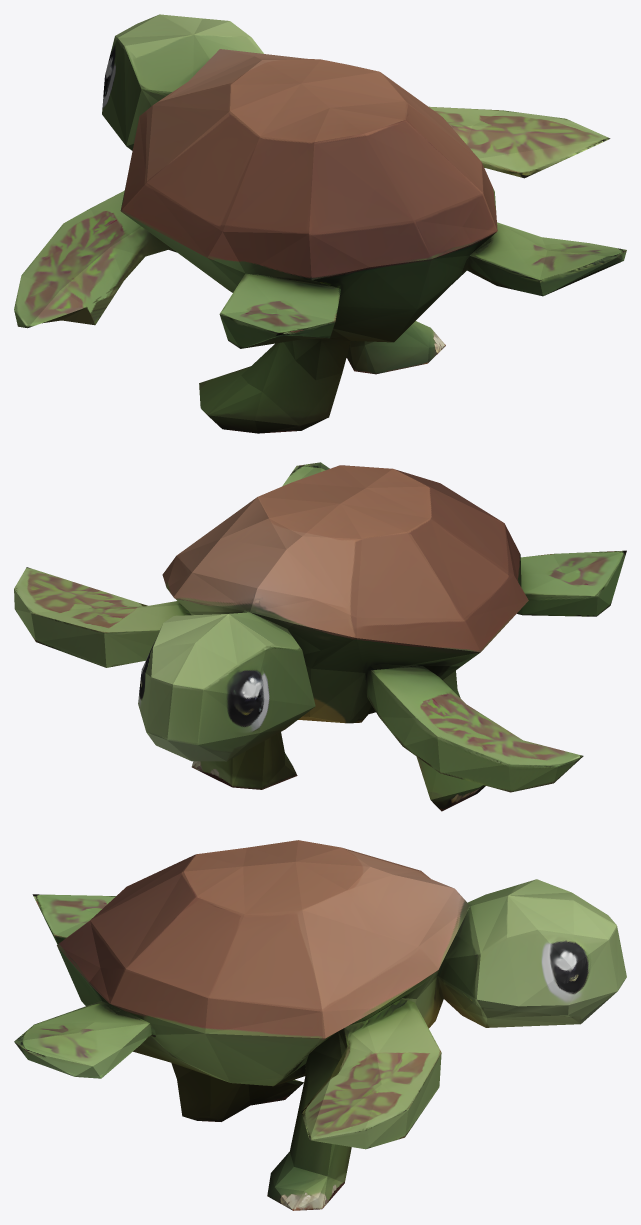
3 views of the same model, one above another, from view 1: azimuth 30°, elevation 25°; view 2: azimuth 150°, elevation 25°; view 3: azimuth 270°, elevation 25° (orthographic). The views are drawn at different scales.
Parts seen in each view (by area): view 1: Figure; view 2: Figure; view 3: Figure.
Boxes of the visible parts, bbox=[...] form: Figure: bbox=[14, 14, 626, 433]; Figure: bbox=[14, 462, 626, 811]; Figure: bbox=[14, 840, 626, 1210].
Size of the model in its own units: 0.5465 by 0.2689 by 0.5255.
Materials: 1 (1 with a texture image).
